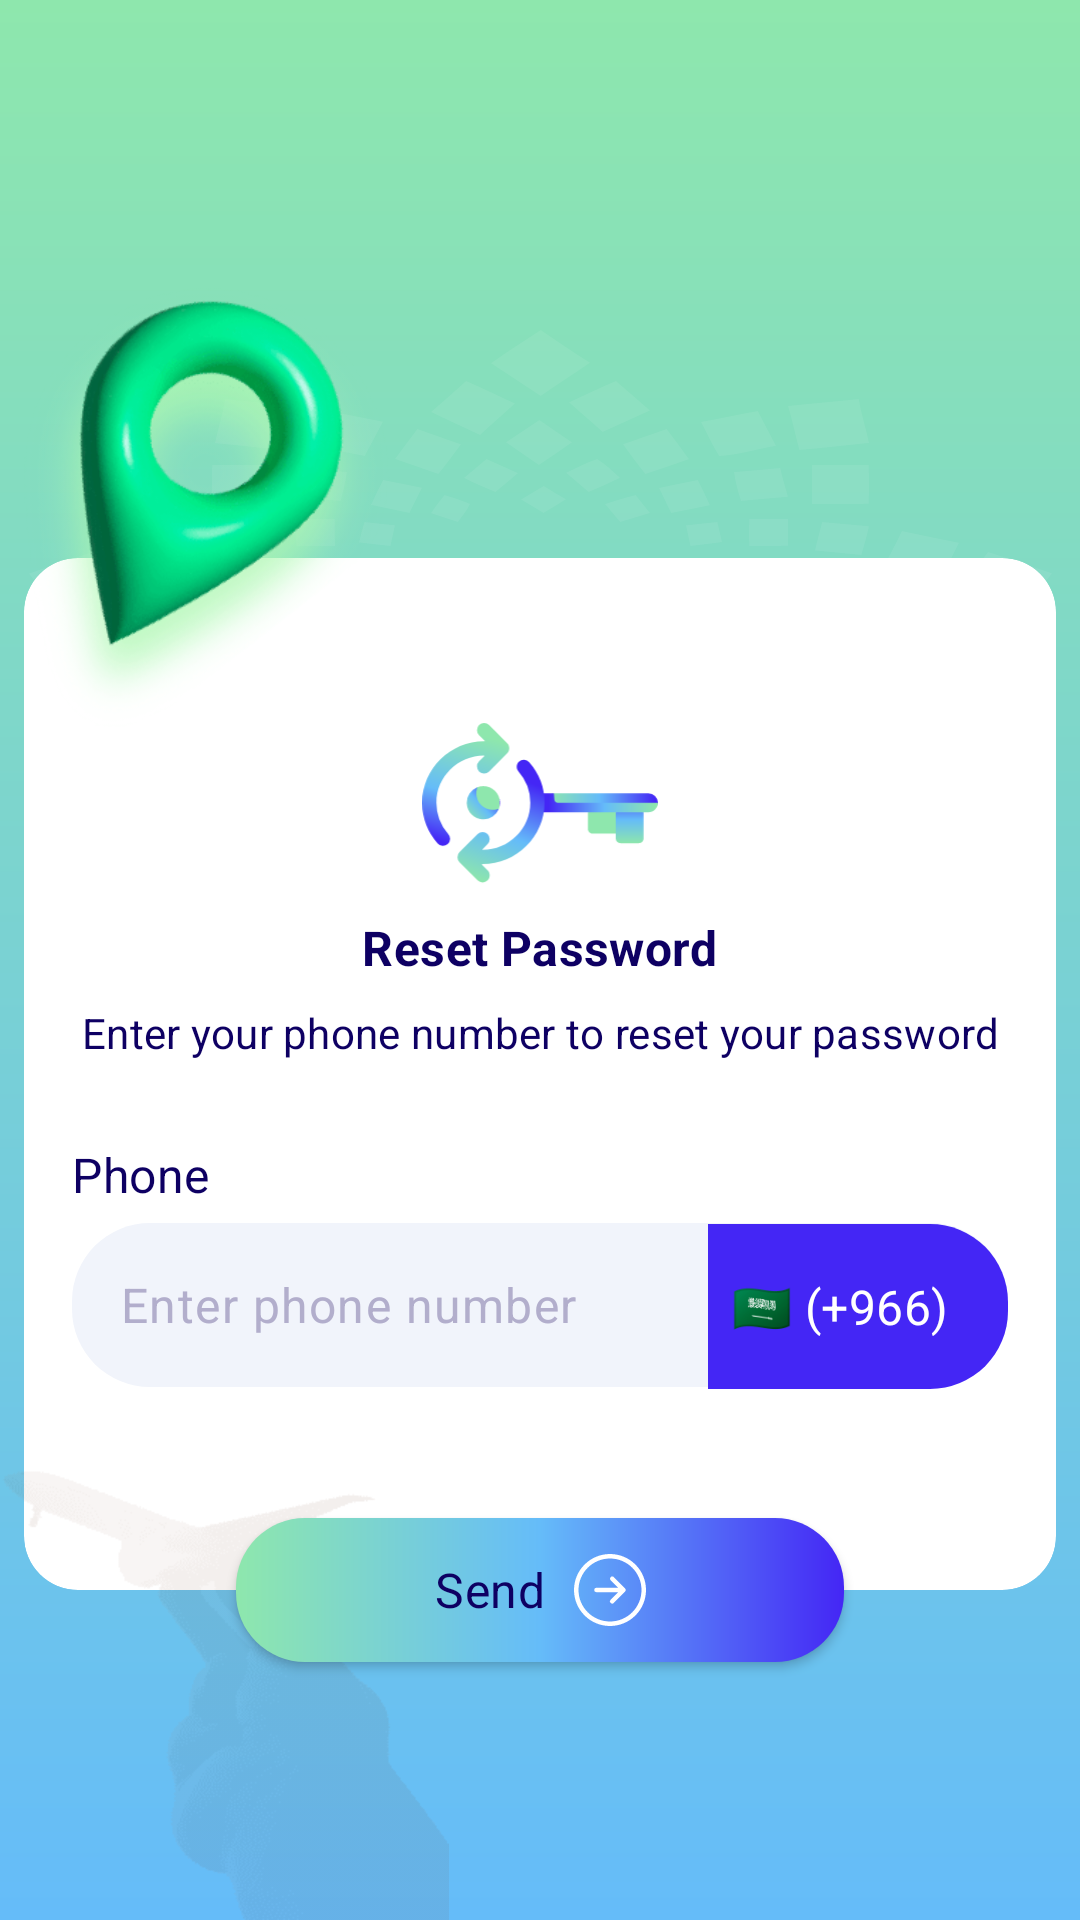

Icons on this 1080x1920 Android screen, each with the point to tap as point (x, y):
reset key: point (540, 803)
